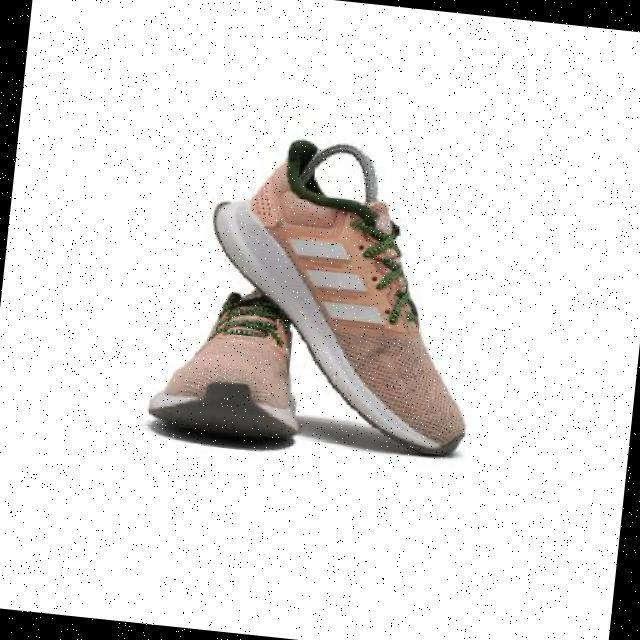Adidas: (275, 230, 392, 337)
